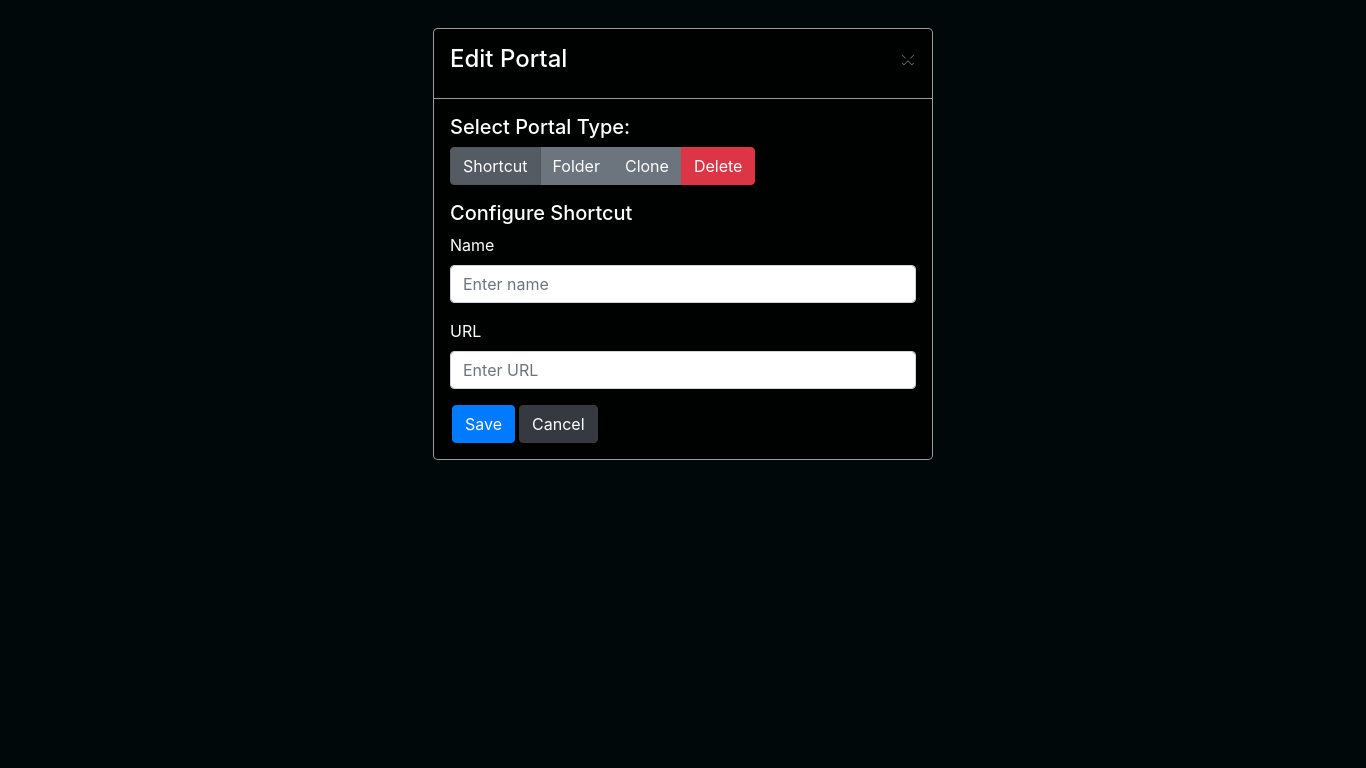
should render delete warning on delete button click
Click the text "Delete".
click(718, 166)  # box [681,147,755,185]
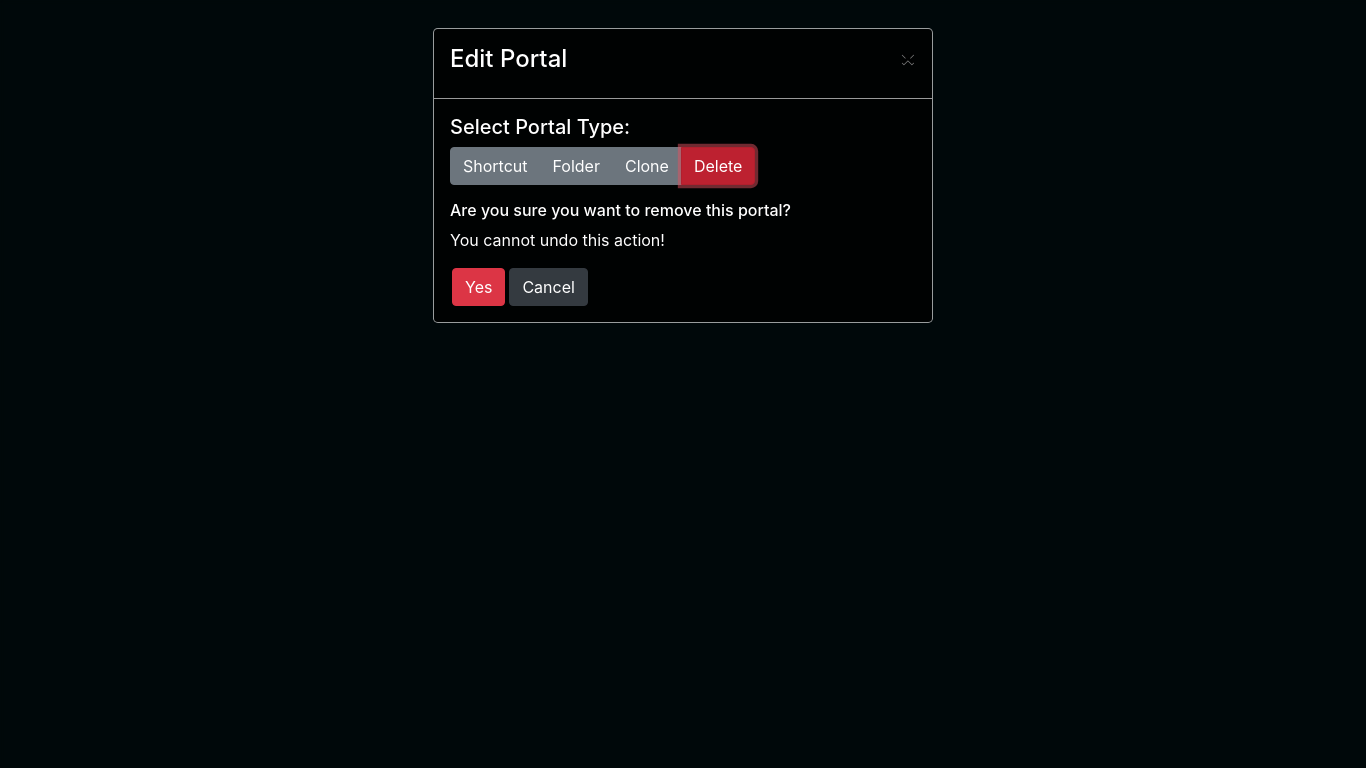
Now the heading "Are you sure you want to remove this portal?" is shown, box [450,200,791,220]
